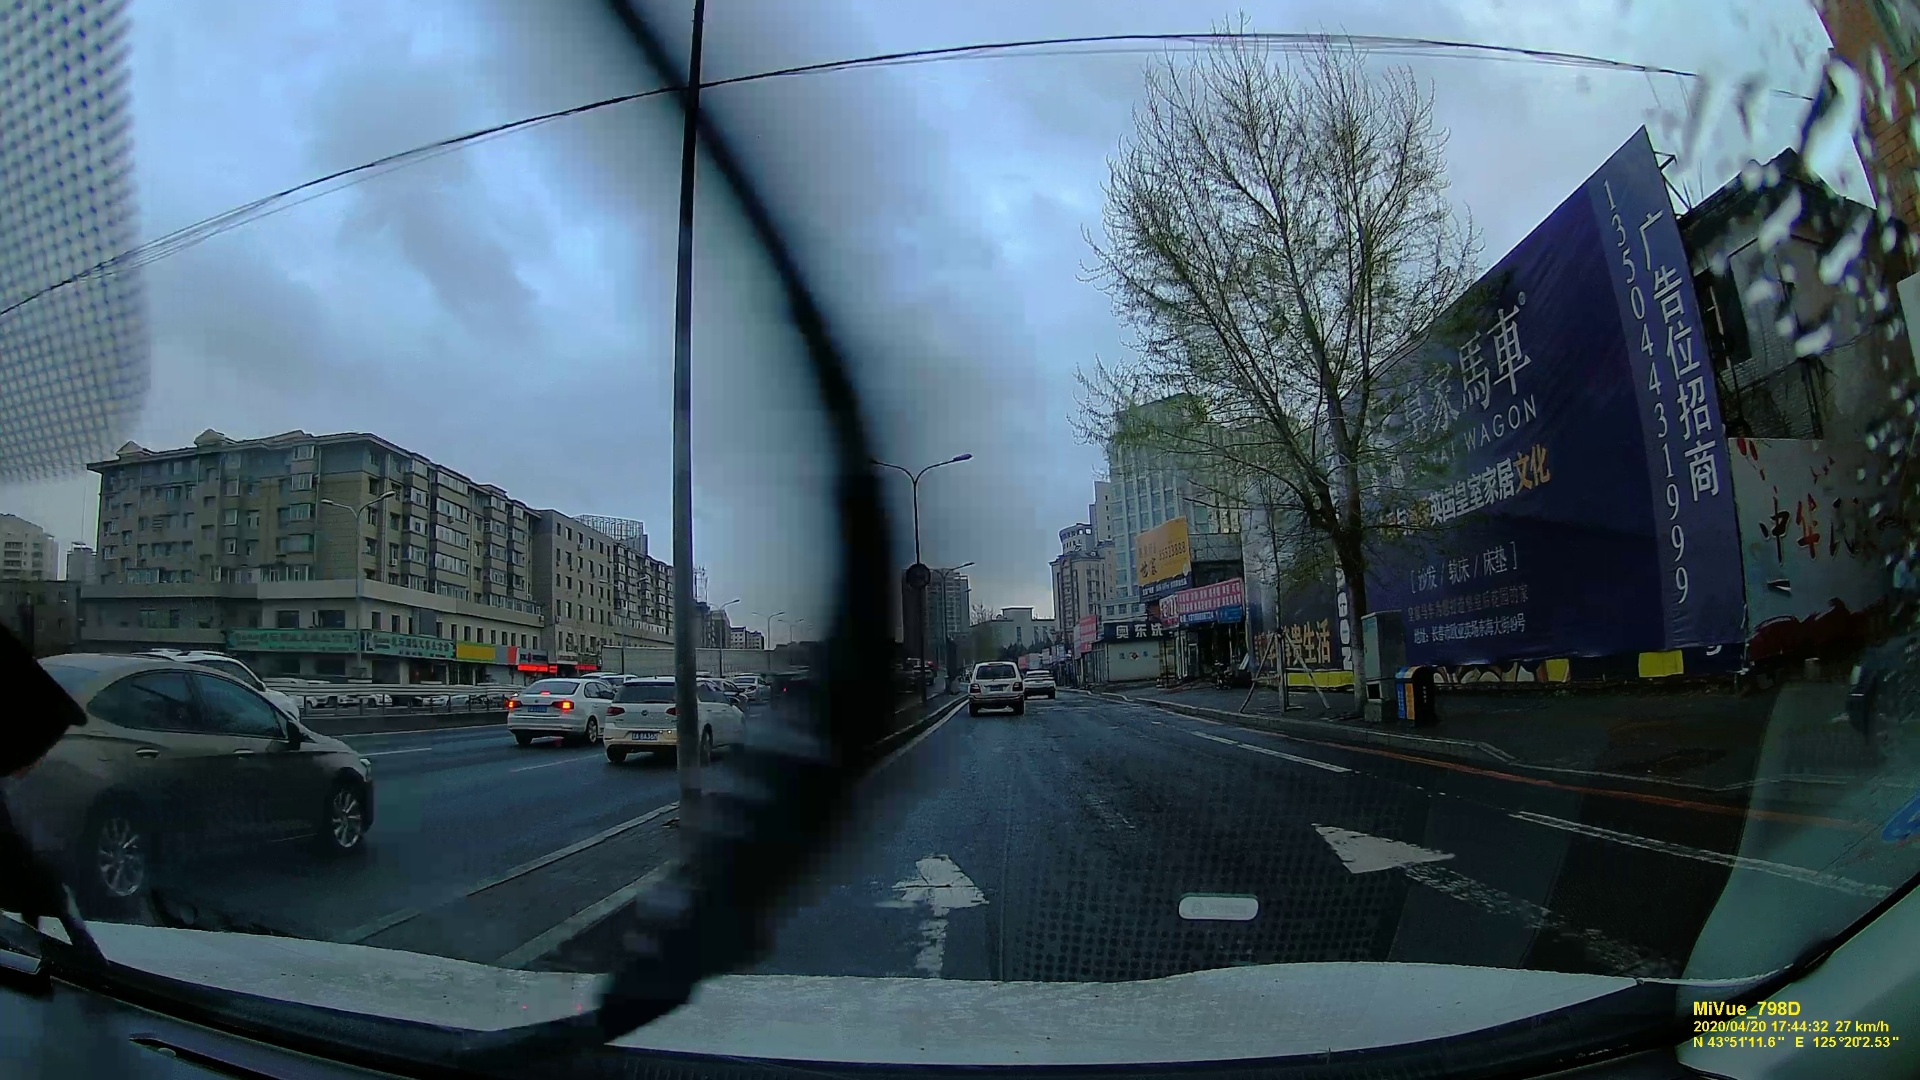vehicle: (16, 641, 378, 924), (597, 675, 752, 764), (506, 670, 613, 745), (964, 659, 1025, 713)
